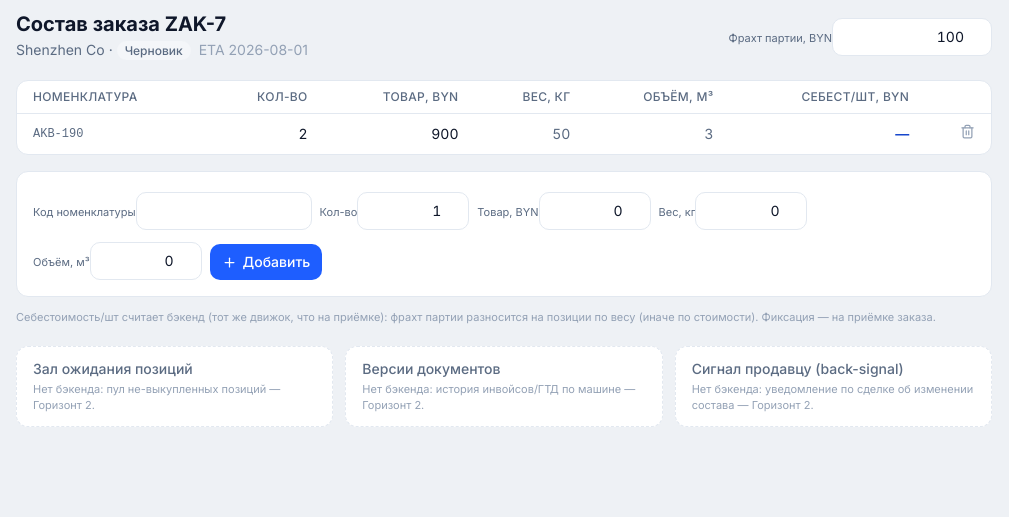
it: ProcurementMachineEditor › фрахт: отрицательное значение — ошибка и откат к прежнему, updateFreight не зовётся
The image size is (1009, 517).
Replace the text in the number field labelled "Фрахт партии, BYN" with "-5" at (912,37), box [832,18,992,56]
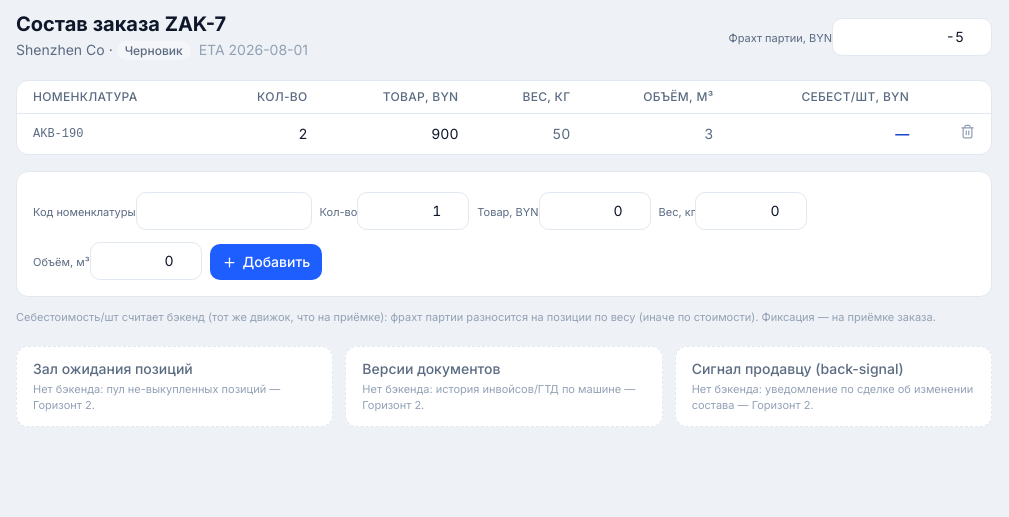
Leave the number field labelled "Фрахт партии, BYN", box [832,18,992,56]
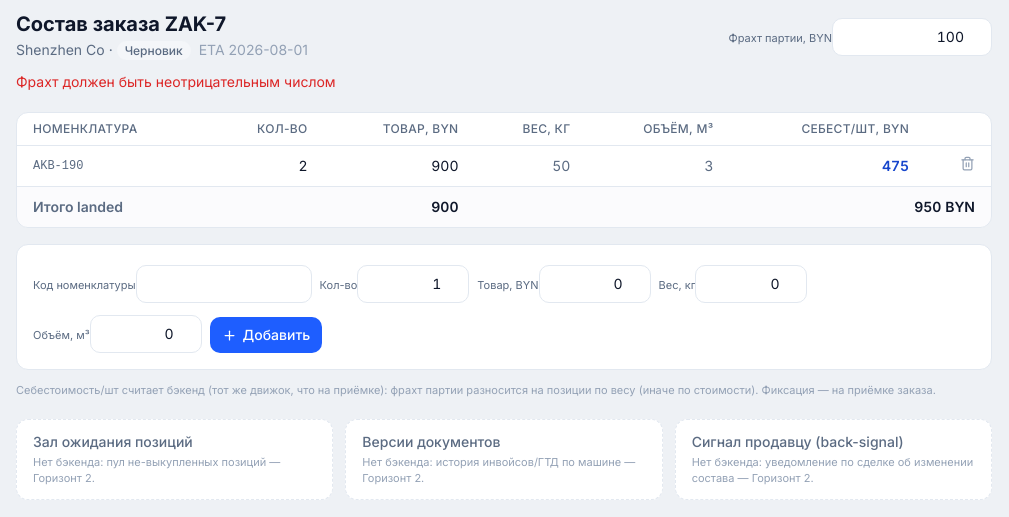
Check: the text "Фрахт должен быть неотрицательным числом" is shown, box [16,73,336,90]
Check: the number field labelled "Фрахт партии, BYN" holds "100", box [832,18,992,56]
